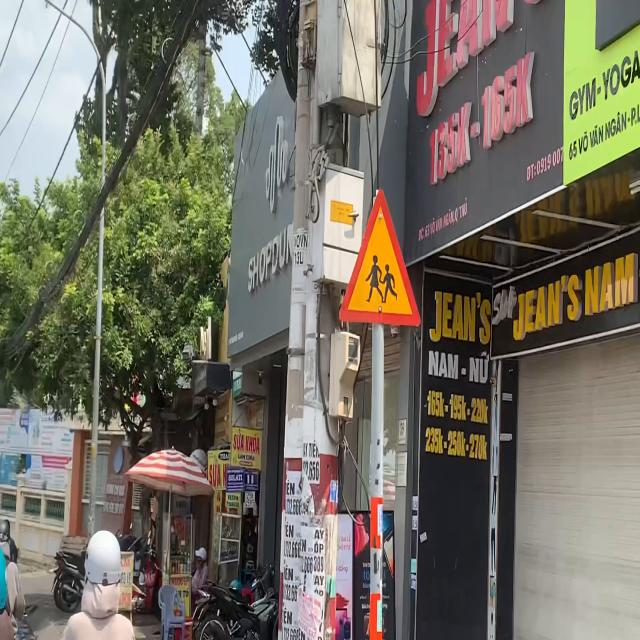Nguy hiem: (335, 185, 424, 335)
